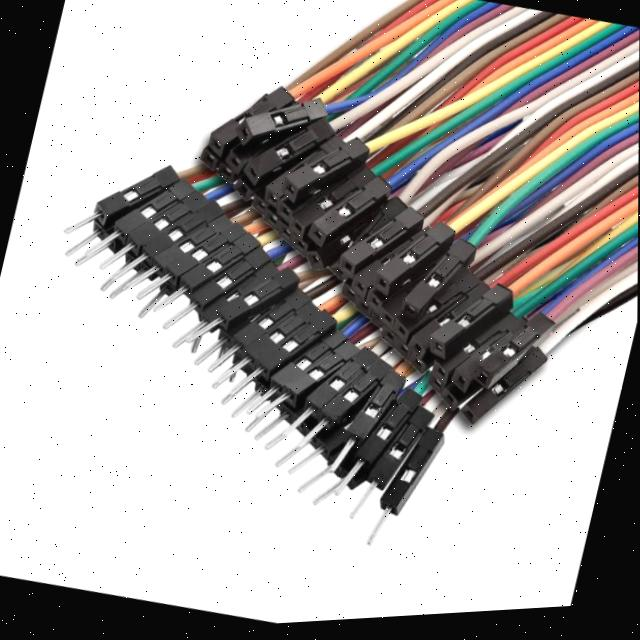Jumper Wires: (21, 0, 640, 596)
